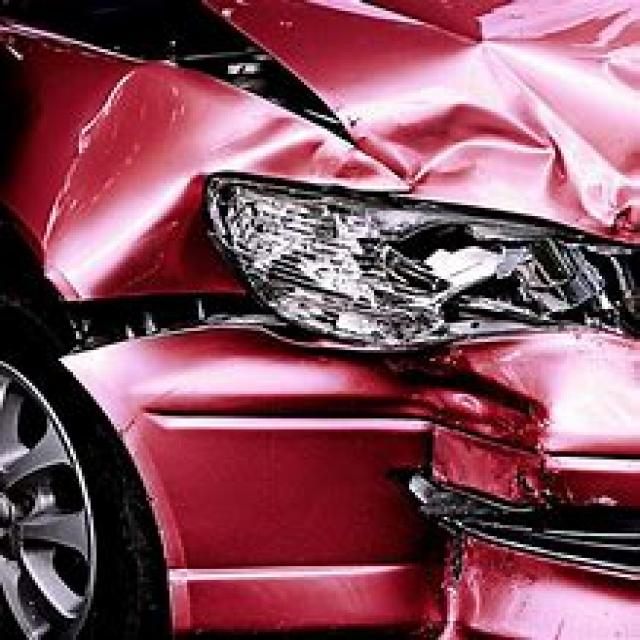Accident: (69, 17, 640, 606)
